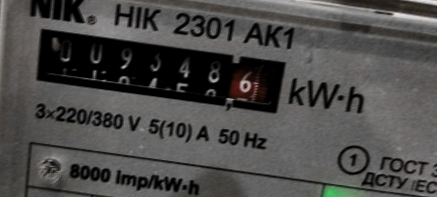0: (55, 36, 75, 64), (86, 37, 104, 65)
3: (147, 46, 164, 73)
4: (173, 48, 195, 80)
6: (235, 64, 255, 95)
8: (205, 55, 223, 85)
9: (117, 44, 134, 73)
screen: (14, 11, 300, 126)
